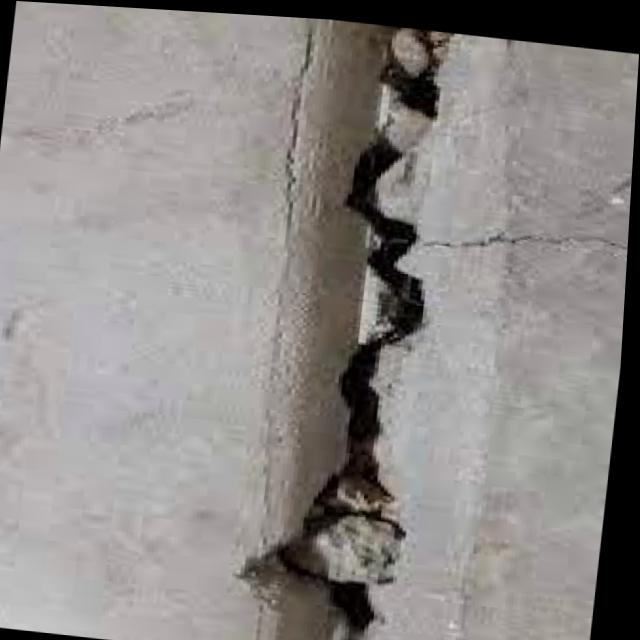Crack: (243, 13, 470, 640)
